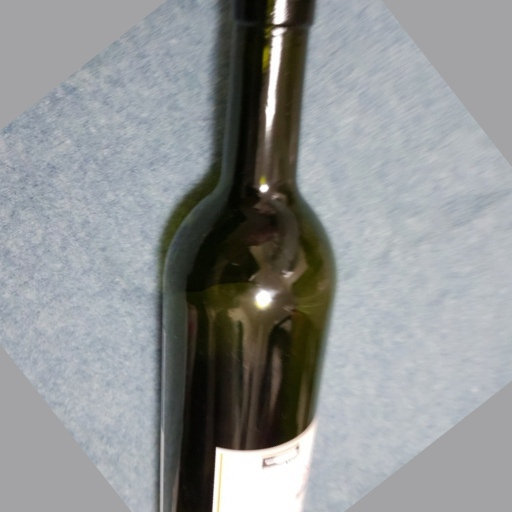Glass_2: (160, 3, 338, 512)
